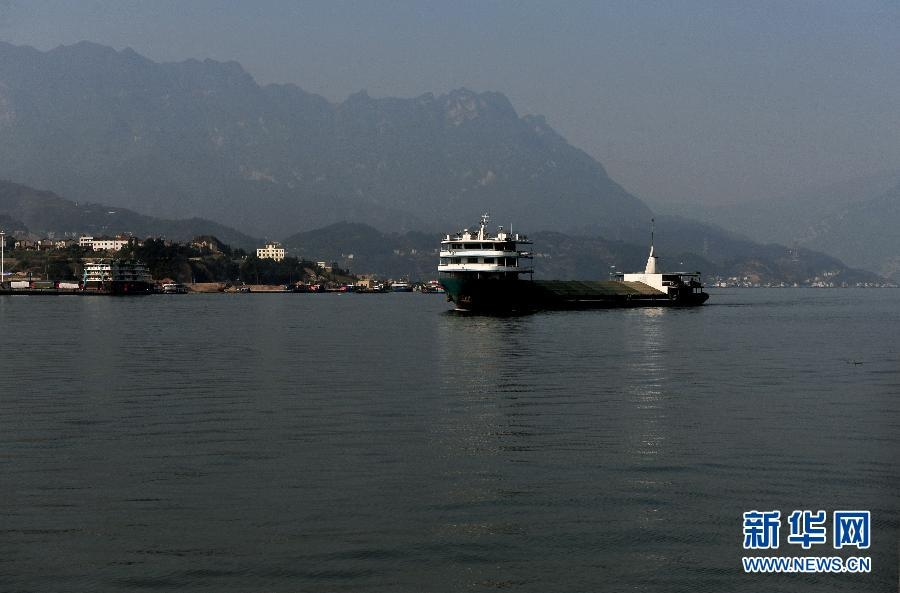Cargoship: (429, 204, 709, 324)
youlun: (80, 251, 160, 299)
